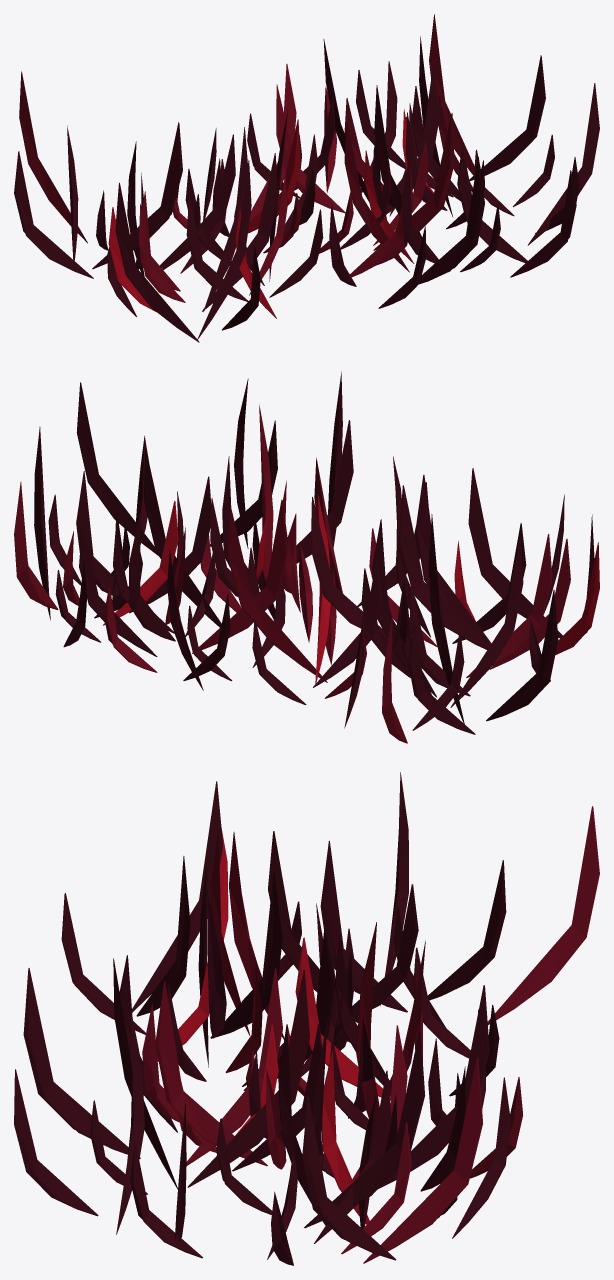
Rendered from SM_RV_Grass.fbx.
3 renders of one model, top to bottom at view 1: azimuth 30°, elevation 25°; view 2: azimuth 150°, elevation 25°; view 3: azimuth 270°, elevation 25°, orthographic. The views are drawn at different scales.
Visible parts, largest first — view 1: SM_RV_Grass; view 2: SM_RV_Grass; view 3: SM_RV_Grass.
Boxes of the visible parts, <box> form: SM_RV_Grass: <box>14,14,599,342</box>; SM_RV_Grass: <box>14,371,599,743</box>; SM_RV_Grass: <box>14,772,599,1265</box>.
Bounding box in the file's own units: 180 × 244 × 71.99.
